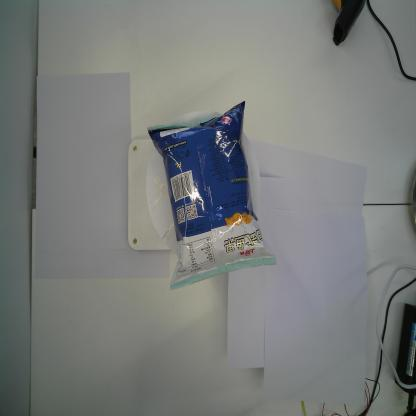Puffed Food: (147, 99, 276, 290)
